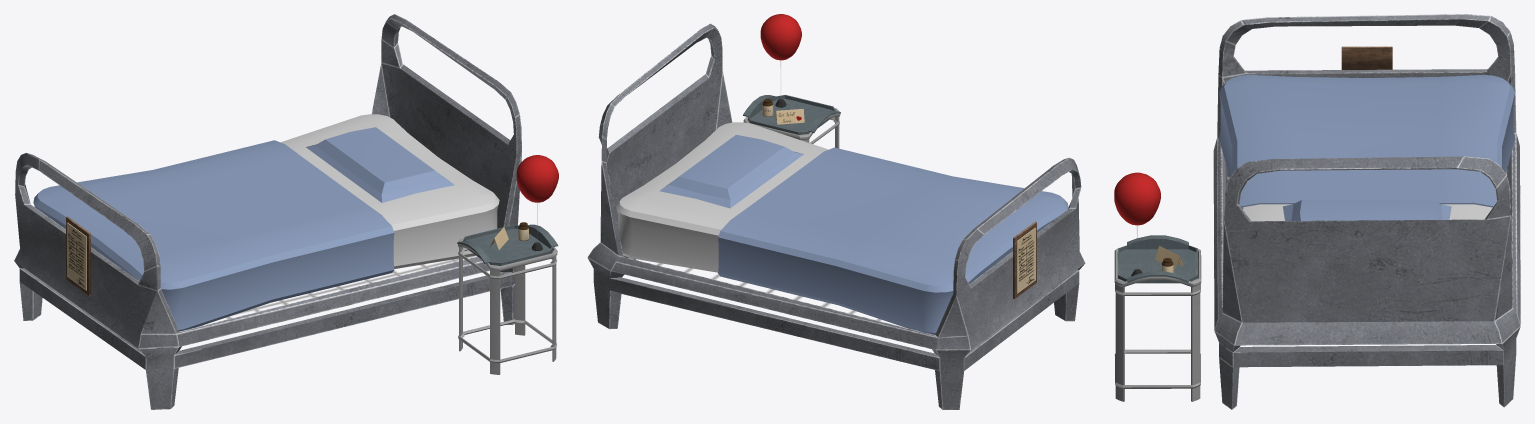
The model's file is hospital_bed.glb.
The picture shows the model from 3 angles, left to right: view 1: azimuth 30°, elevation 25°; view 2: azimuth 150°, elevation 25°; view 3: azimuth 270°, elevation 25°; orthographic projection. The views are drawn at different scales.
Parts seen in each view (by area): view 1: Mattress, BedFrame, BedsideStand; view 2: Mattress, BedFrame, BedsideStand; view 3: BedFrame, Mattress, BedsideStand.
Part boxes in pixels (x1=…): Mattress: x1=33, y1=114, x2=499, y2=331; BedFrame: x1=14, y1=14, x2=521, y2=409; BedsideStand: x1=457, y1=155, x2=558, y2=374; Mattress: x1=616, y1=122, x2=1068, y2=334; BedFrame: x1=587, y1=23, x2=1085, y2=409; BedsideStand: x1=743, y1=14, x2=840, y2=148; BedFrame: x1=1213, y1=14, x2=1520, y2=409; Mattress: x1=1219, y1=74, x2=1514, y2=221; BedsideStand: x1=1114, y1=172, x2=1201, y2=401.
Bounding box in the file's own units: 340 × 184 × 273.
4 materials, 4 textured.
